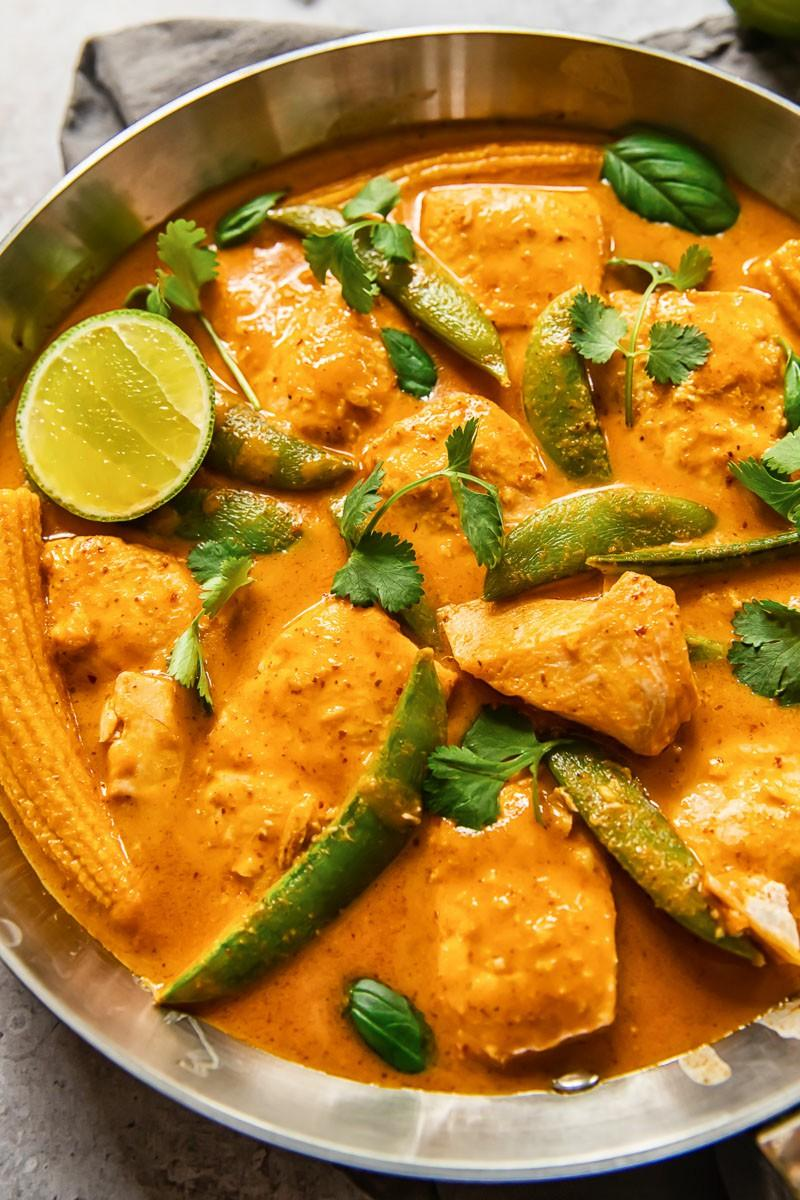FishCurry: (0, 125, 800, 1098)
